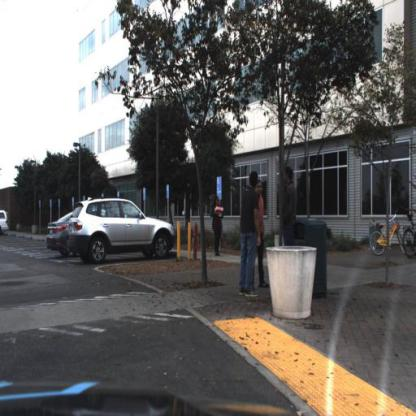car: (67, 196, 178, 269), (47, 209, 81, 263), (45, 211, 72, 257), (1, 204, 12, 240), (1, 209, 11, 240)
pedestrian: (237, 172, 261, 300), (238, 169, 260, 304), (253, 179, 268, 293), (255, 180, 269, 288), (279, 164, 297, 247), (281, 166, 299, 249), (209, 193, 227, 259), (211, 194, 226, 262)
